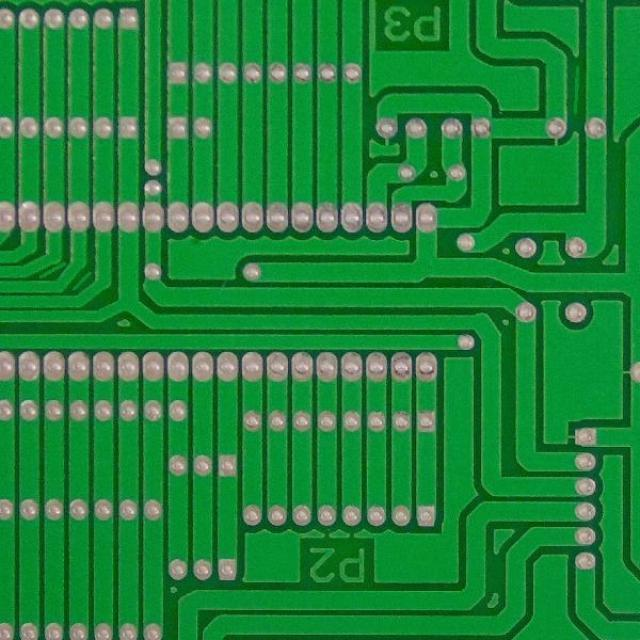Spurious_Cooper: (66, 265, 96, 294), (569, 61, 584, 118), (35, 257, 69, 281)
